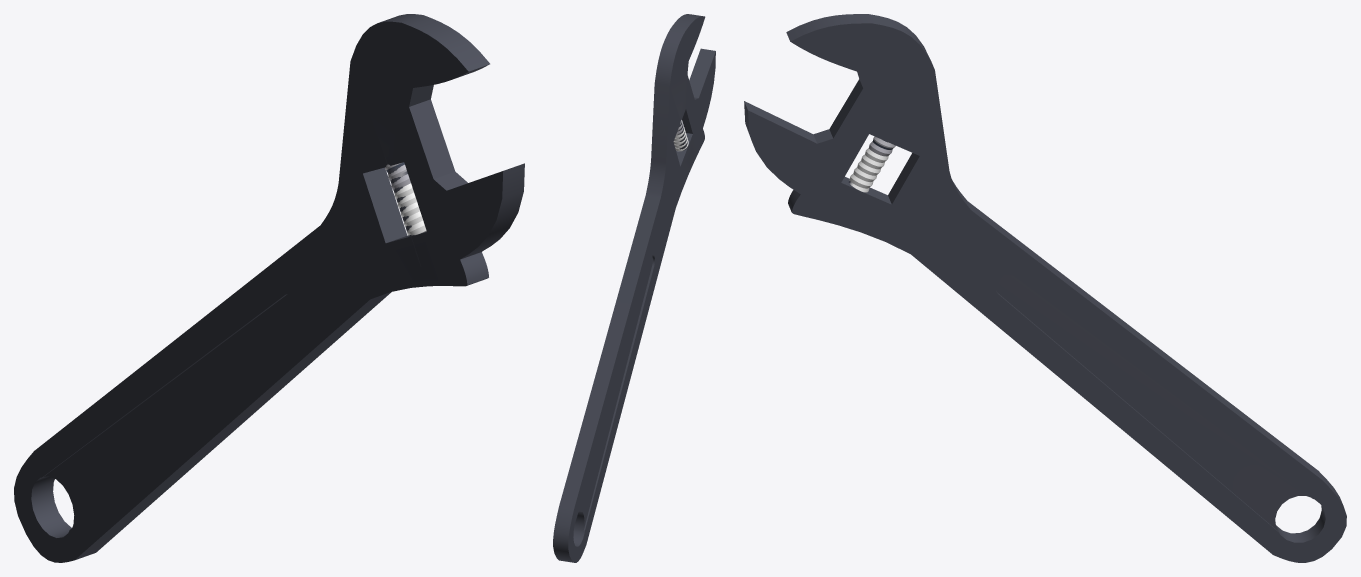
The model's file is cle_molette.fbx.
3 views of the same model, side by side, from view 1: azimuth 30°, elevation 25°; view 2: azimuth 150°, elevation 25°; view 3: azimuth 270°, elevation 25° (orthographic). The views are drawn at different scales.
Parts seen in each view (by area): view 1: clé_molette; view 2: clé_molette; view 3: clé_molette.
Boxes of the visible parts, x1,y1,x2,y2 form: clé_molette: [14, 14, 524, 562]; clé_molette: [553, 14, 715, 562]; clé_molette: [744, 14, 1346, 562].
Bounding box in the file's own units: 7.33 × 36.22 × 34.54.
1 material, 1 textured.
